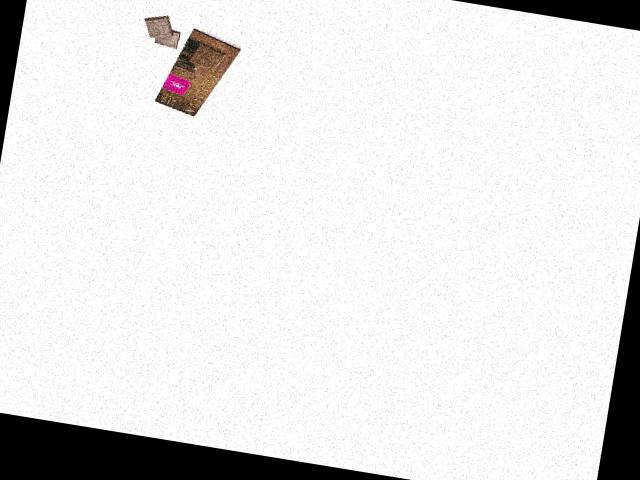chocolate: (151, 22, 243, 123)
